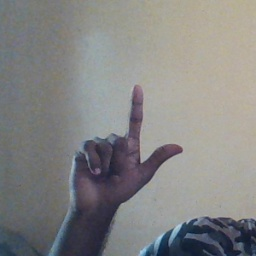L: (68, 85, 185, 205)
